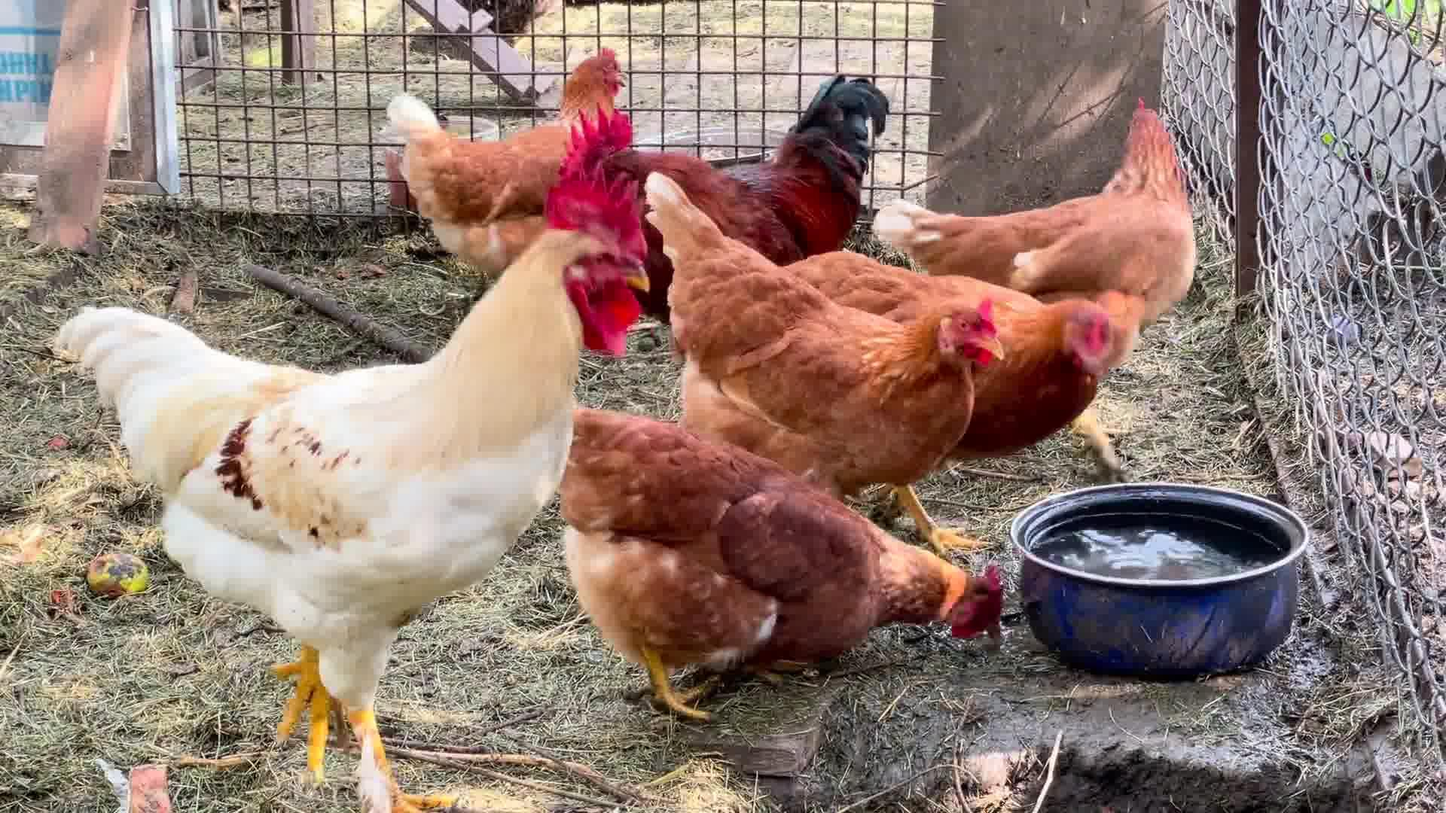Normal: (42, 157, 650, 792), (650, 170, 1147, 512), (592, 394, 1037, 727), (900, 98, 1251, 310), (362, 44, 659, 267), (558, 81, 933, 253), (836, 247, 1152, 402)
